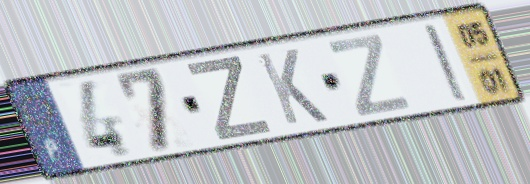4: (78, 78, 136, 161)
7: (112, 65, 174, 156)
I: (419, 21, 473, 104)
K: (252, 46, 332, 128)
Z: (182, 54, 277, 144), (324, 31, 414, 119)
